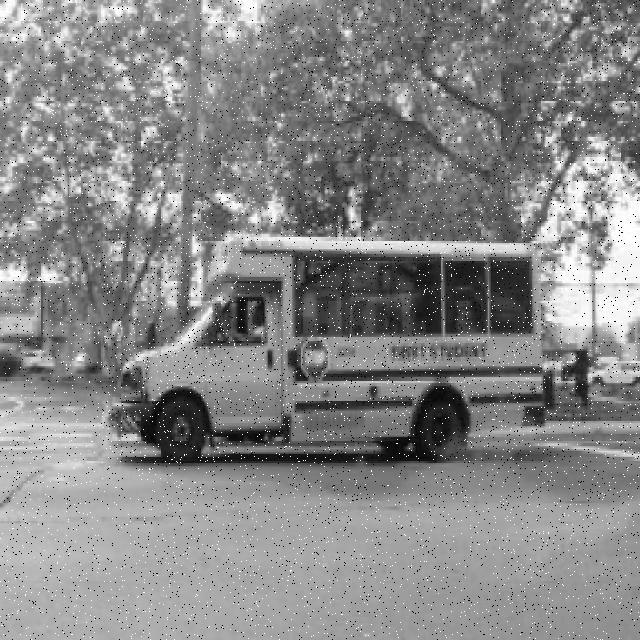Bus- Small: (101, 234, 546, 463)
